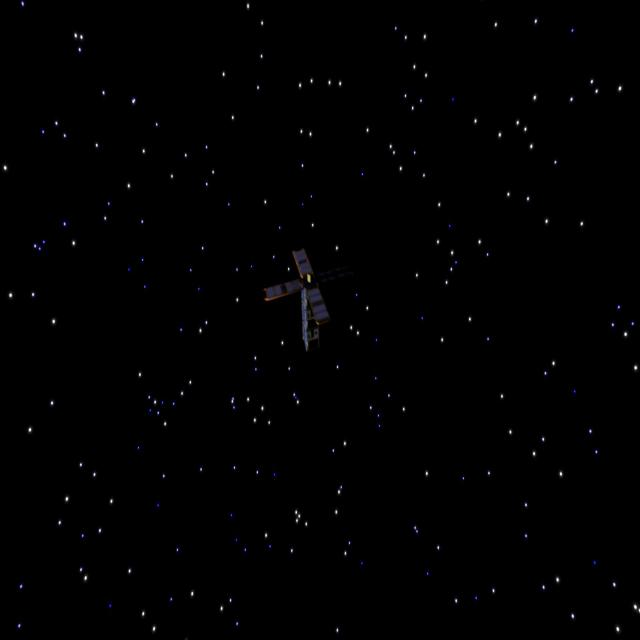medium_debris: (264, 239, 342, 360)
